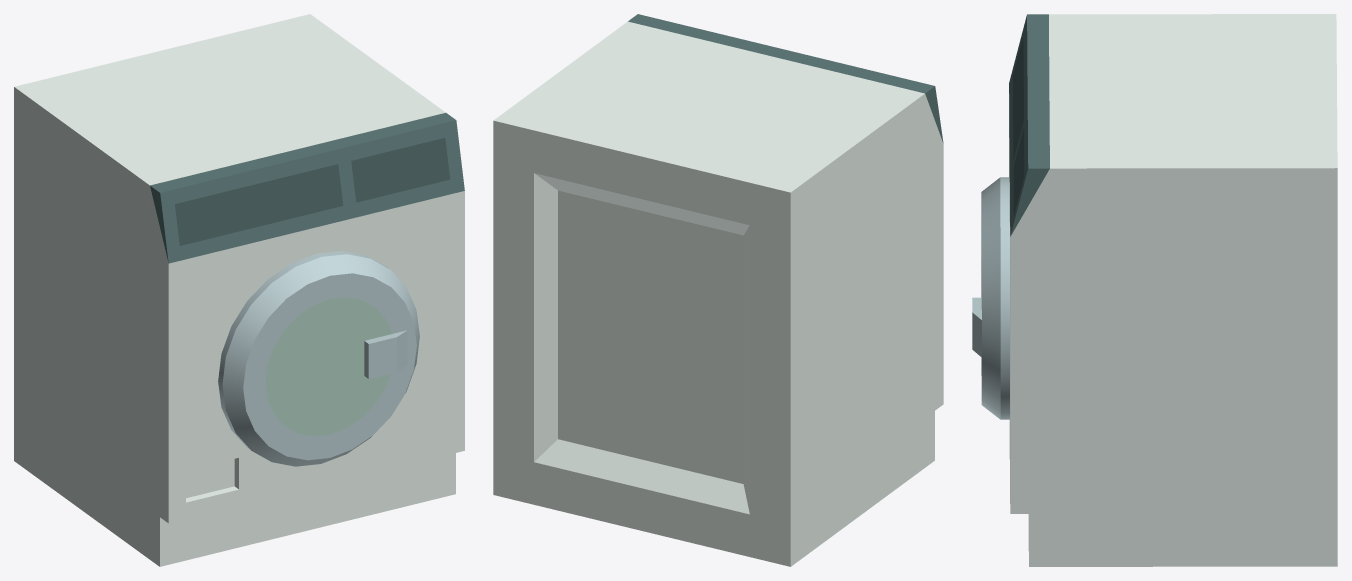
File: washer.glb
3 views of the same model, side by side, from view 1: azimuth 30°, elevation 25°; view 2: azimuth 150°, elevation 25°; view 3: azimuth 270°, elevation 25° (orthographic). The views are drawn at different scales.
Parts seen in each view (by area): view 1: washer; view 2: washer; view 3: washer.
Boxes of the visible parts, box(x1,y1,x2,y2) form: washer: box(14, 14, 464, 566); washer: box(493, 14, 943, 566); washer: box(972, 14, 1337, 566).
Bounding box in the file's own units: 0.8567 × 1.03 × 0.8553.
